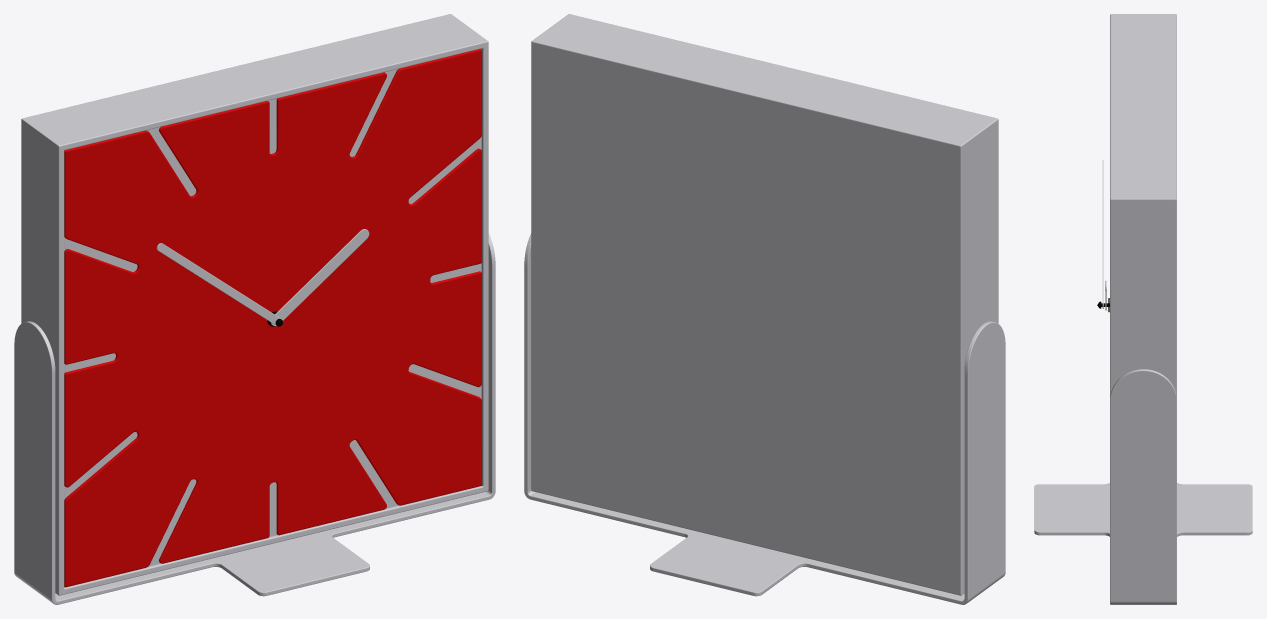
The model's file is mpm_vol.01_p24.FBX.
3 views of the same model, side by side, from view 1: azimuth 30°, elevation 25°; view 2: azimuth 150°, elevation 25°; view 3: azimuth 270°, elevation 25° (orthographic). The views are drawn at different scales.
Parts seen in each view (by area): view 1: 24 Snap clock - dial, 24 Snap clock - base; view 2: 24 Snap clock - dial, 24 Snap clock - base; view 3: 24 Snap clock - dial, 24 Snap clock - base.
Boxes of the visible parts, box(x1,y1,x2,y2) form: 24 Snap clock - dial: box(21, 14, 488, 595); 24 Snap clock - base: box(14, 233, 495, 604); 24 Snap clock - dial: box(531, 14, 998, 595); 24 Snap clock - base: box(524, 233, 1005, 604); 24 Snap clock - dial: box(1097, 14, 1176, 398); 24 Snap clock - base: box(1034, 369, 1252, 604).
Bounding box in the file's own units: 290 × 140 × 286.
